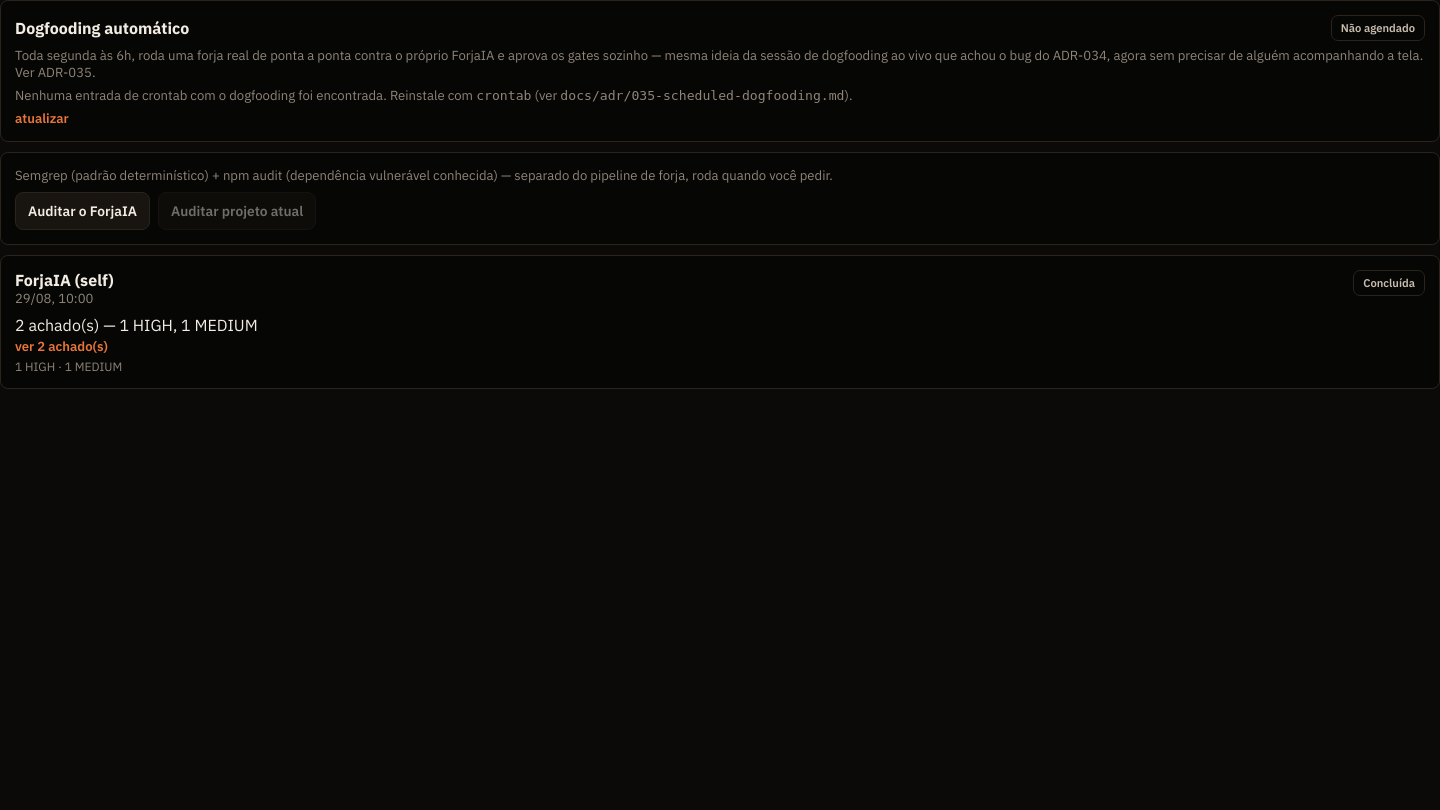
Test case: AuditTab › mostra o resumo de uma run concluída e expande os achados ao clicar
Expected: the text "2 achado(s) — 1 HIGH, 1 MEDIUM" is shown, [15,315,258,335]
Expected: the text "Segredo exposto" is not shown
Click the button "ver 2 achado(s)": point(62, 346) [15,338,108,355]
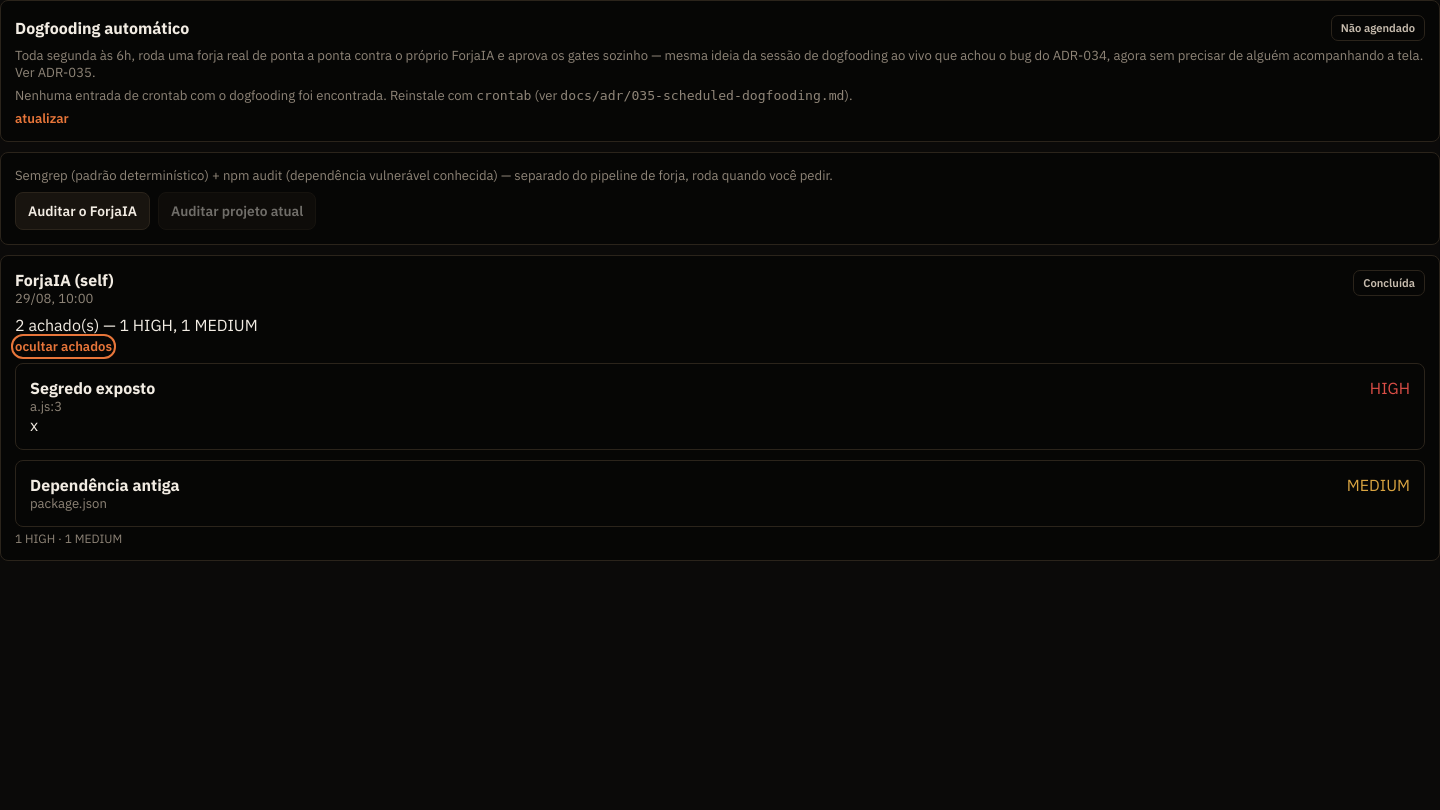
Result: the text "Segredo exposto" is shown at [30,378,155,398]
Result: the text "Dependência antiga" is shown at [30,475,180,495]
